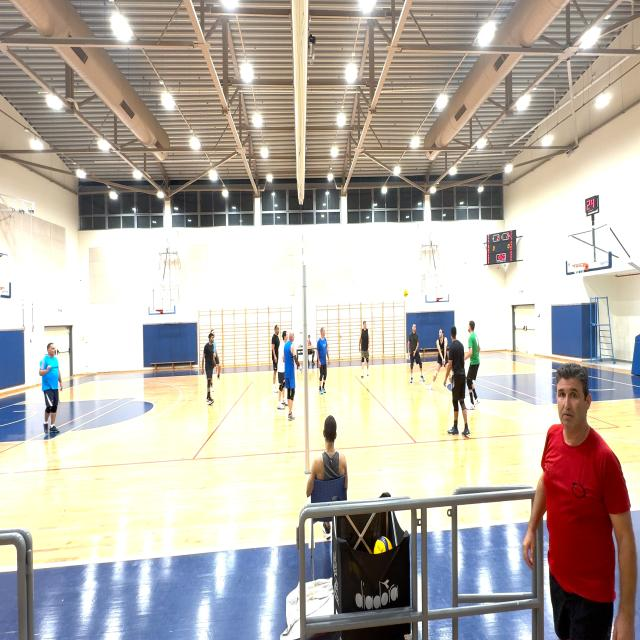volleyball: (373, 536, 392, 555), (403, 289, 408, 296)
